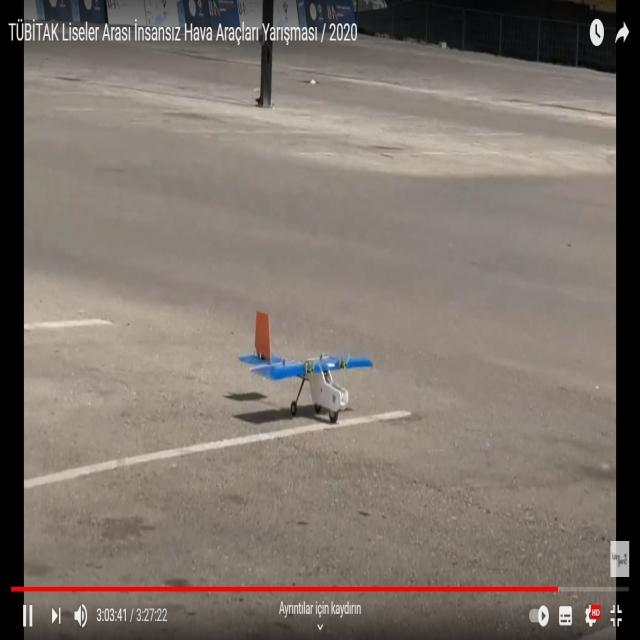iha: (237, 343, 371, 397)
